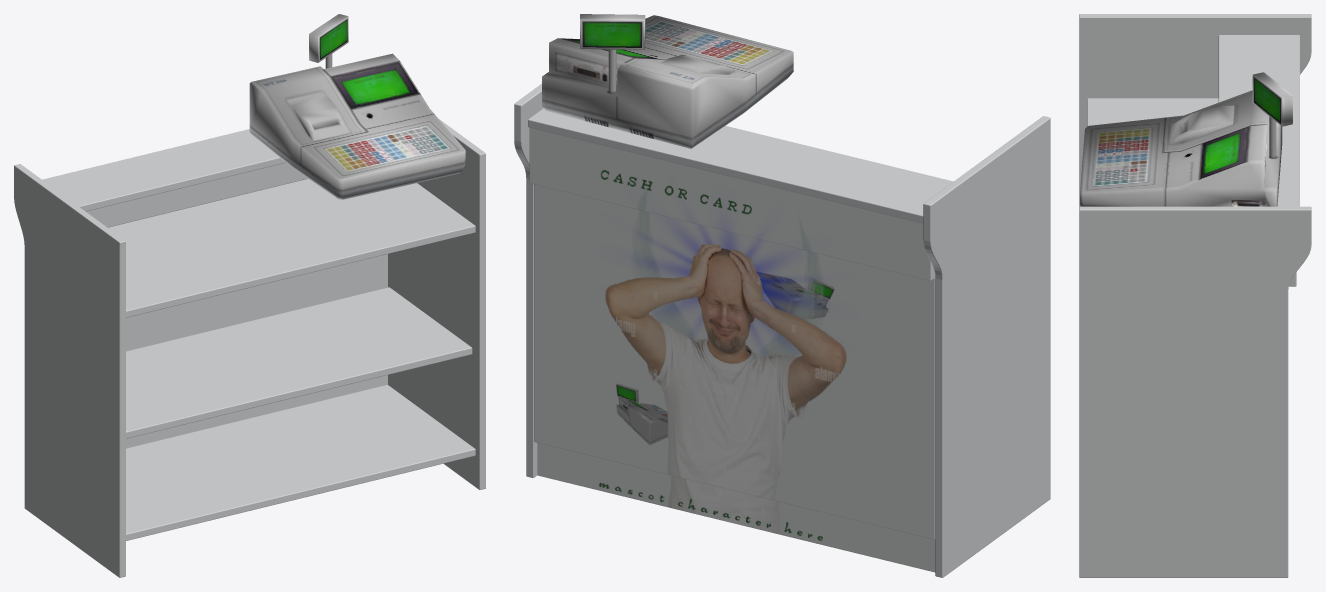
The model's file is Cash-Register.glb.
3 views of the same model, side by side, from view 1: azimuth 30°, elevation 25°; view 2: azimuth 150°, elevation 25°; view 3: azimuth 270°, elevation 25° (orthographic). The views are drawn at different scales.
Parts seen in each view (by area): view 1: Panel_Side_Left, Shelf_Interior_Base, Shelf_Interior_Storage, Shelf_Main_Work_Surface, Cash_Register, Panel_Side_Right, Panel_Front_Lower, Ledge_Top_Transaction, Panel_Front_Upper_Header; view 2: Panel_Front_Lower, Panel_Side_Left, Panel_Front_Upper_Header, Cash_Register, Panel_Toe_Kick, Ledge_Top_Transaction, Panel_Side_Right; view 3: Panel_Side_Right, Cash_Register, Panel_Side_Left, Ledge_Top_Transaction, Shelf_Main_Work_Surface, Panel_Front_Upper_Header.
Part boxes in pixels (x1,y1,x2,y2): Panel_Side_Left: (14,164,125,577); Shelf_Interior_Base: (126,384,475,540); Shelf_Interior_Storage: (126,287,472,438); Shelf_Main_Work_Surface: (110,180,475,317); Cash_Register: (249,14,465,199); Panel_Side_Right: (388,119,485,489); Panel_Front_Lower: (108,178,387,448); Ledge_Top_Transaction: (42,129,285,211); Panel_Front_Upper_Header: (44,130,307,227); Panel_Front_Lower: (534,184,935,539); Panel_Side_Left: (923,116,1050,577); Panel_Front_Upper_Header: (529,114,935,280); Cash_Register: (542,14,793,148); Panel_Toe_Kick: (537,443,935,572); Ledge_Top_Transaction: (528,108,952,223); Panel_Side_Right: (514,84,543,477); Panel_Side_Right: (1079,206,1311,577); Cash_Register: (1080,72,1292,206); Panel_Side_Left: (1079,14,1311,206); Ledge_Top_Transaction: (1218,35,1299,206); Shelf_Main_Work_Surface: (1087,98,1218,126); Panel_Front_Upper_Header: (1285,35,1296,286).
Size of the model in its own units: 1.2 by 1.3 by 0.6.
4 materials, 2 textured.
